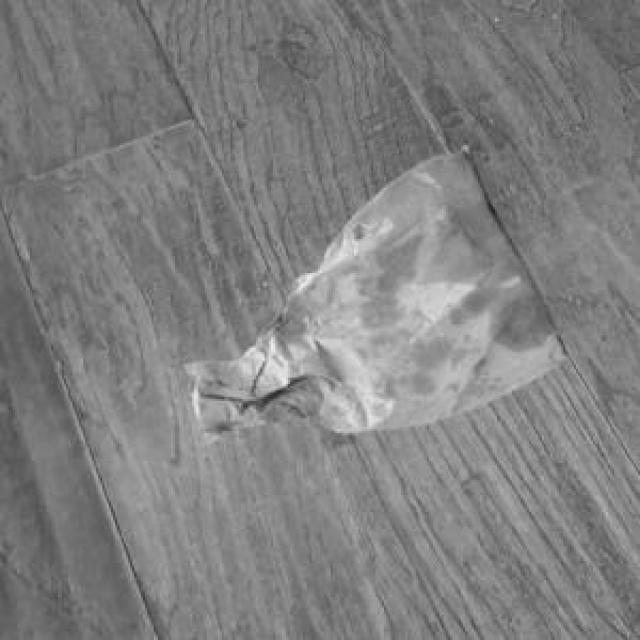paper: (181, 143, 565, 437)
